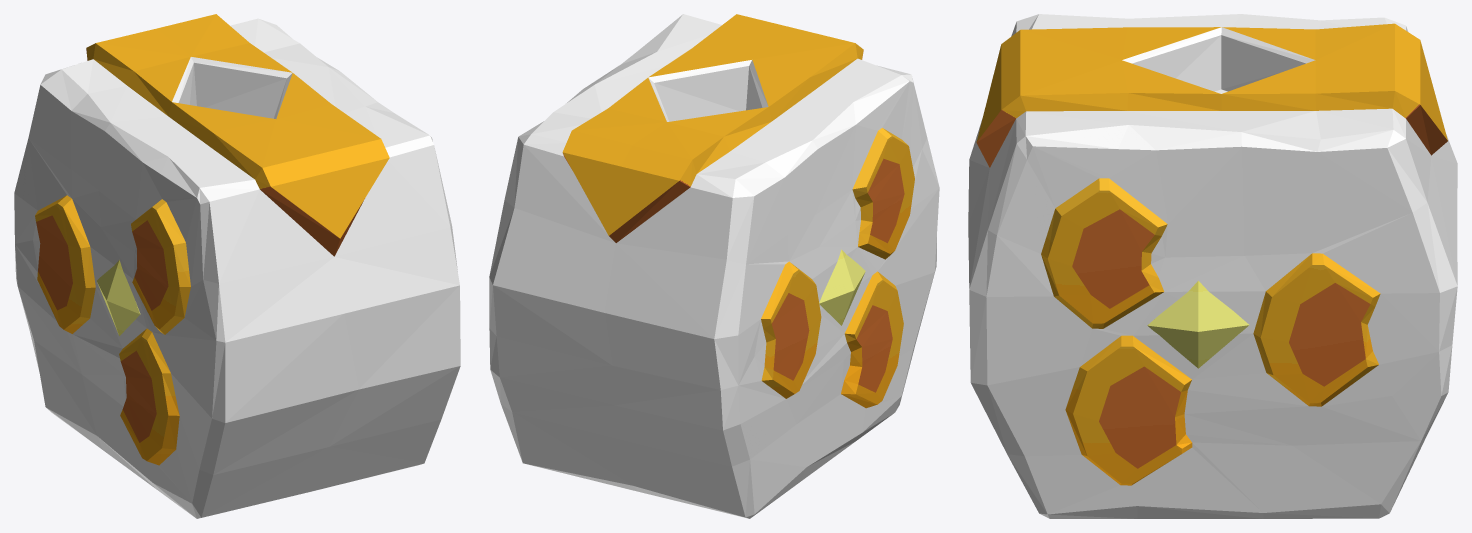
File: CharSkyKid_Neck_DragonBodyWhite.glb
3 views of the same model, side by side, from view 1: azimuth 30°, elevation 25°; view 2: azimuth 150°, elevation 25°; view 3: azimuth 270°, elevation 25° (orthographic). The views are drawn at different scales.
Visible parts, largest first — view 1: CharSkyKid_Neck_DragonBodyWhite; view 2: CharSkyKid_Neck_DragonBodyWhite; view 3: CharSkyKid_Neck_DragonBodyWhite.
Part boxes in pixels (x1,y1,x2,y2): CharSkyKid_Neck_DragonBodyWhite: [14, 14, 460, 518]; CharSkyKid_Neck_DragonBodyWhite: [489, 14, 939, 518]; CharSkyKid_Neck_DragonBodyWhite: [968, 14, 1457, 518].
Size of the model in its own units: 5.68 by 7.02 by 7.79.
1 material, 1 textured.
